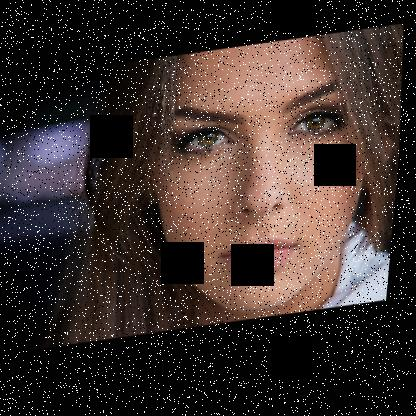Female: (140, 29, 412, 327)
